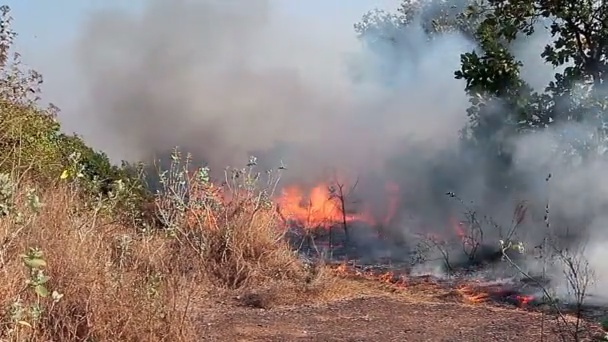fire: (282, 188, 345, 224), (60, 170, 67, 178)
